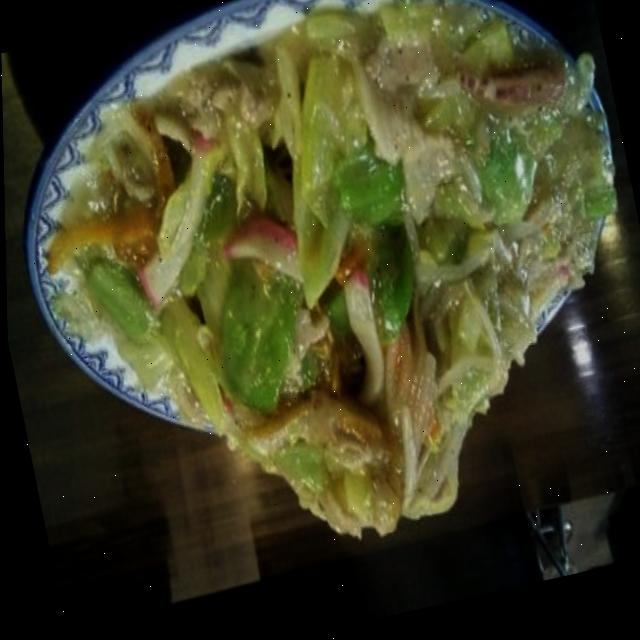豆腐料理: (43, 0, 596, 621)
